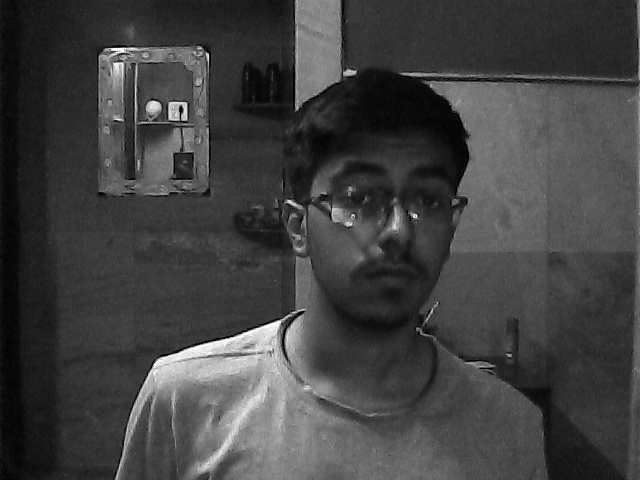nomask: (304, 112, 459, 332)
